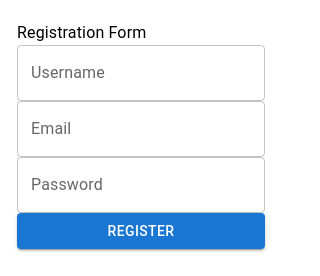
Test case: displays error message when form is submitted with empty fields
The width and height of the screenshot is (320, 276).
Click the button "Register" at x=141, y=231, box [17, 213, 265, 249]
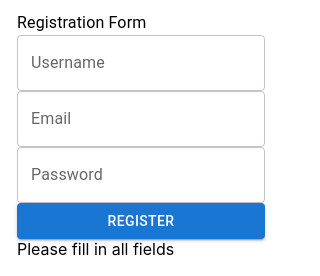
Expected: the text "Please fill in all fields" is shown, [17, 239, 174, 259]
